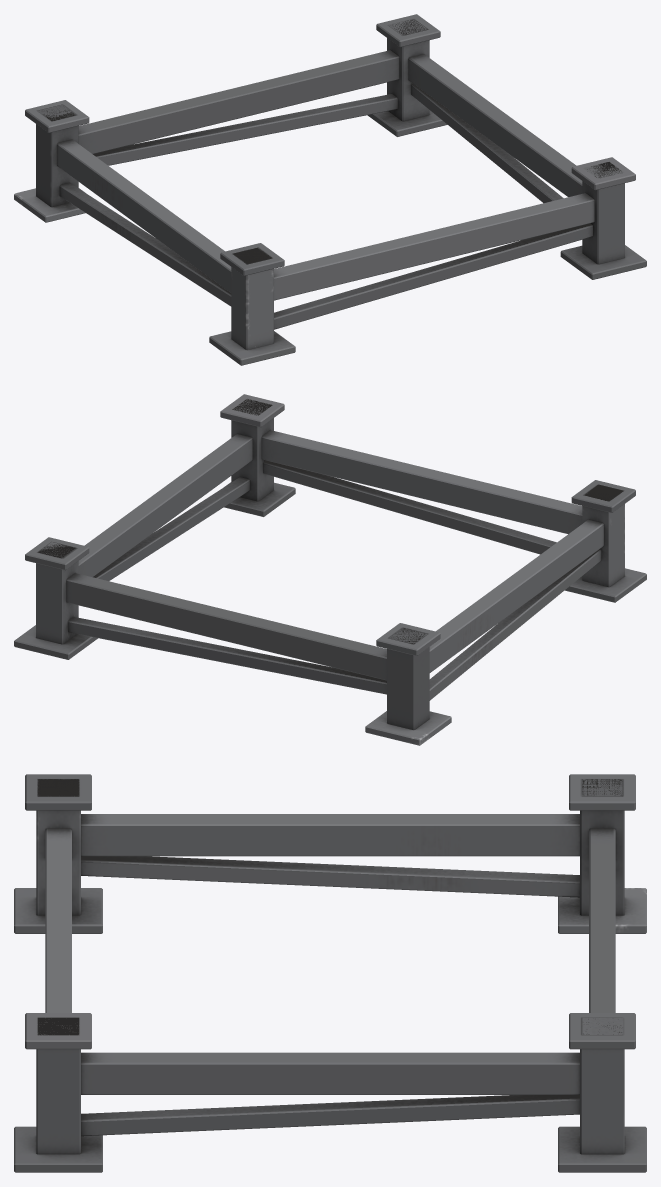
Rendered from nodexeus-set-legs-1.glb.
The picture shows the model from 3 angles, top to bottom: view 1: azimuth 30°, elevation 25°; view 2: azimuth 150°, elevation 25°; view 3: azimuth 270°, elevation 25°; orthographic projection. The views are drawn at different scales.
Visible parts, largest first — view 1: set-legs-1; view 2: set-legs-1; view 3: set-legs-1.
Part boxes in pixels (x1=…): set-legs-1: x1=14, y1=14, x2=646, y2=365; set-legs-1: x1=14, y1=394, x2=646, y2=745; set-legs-1: x1=14, y1=774, x2=646, y2=1172.
Size of the model in its own units: 6.25 by 1.35 by 6.05.
1 material, 1 textured.
